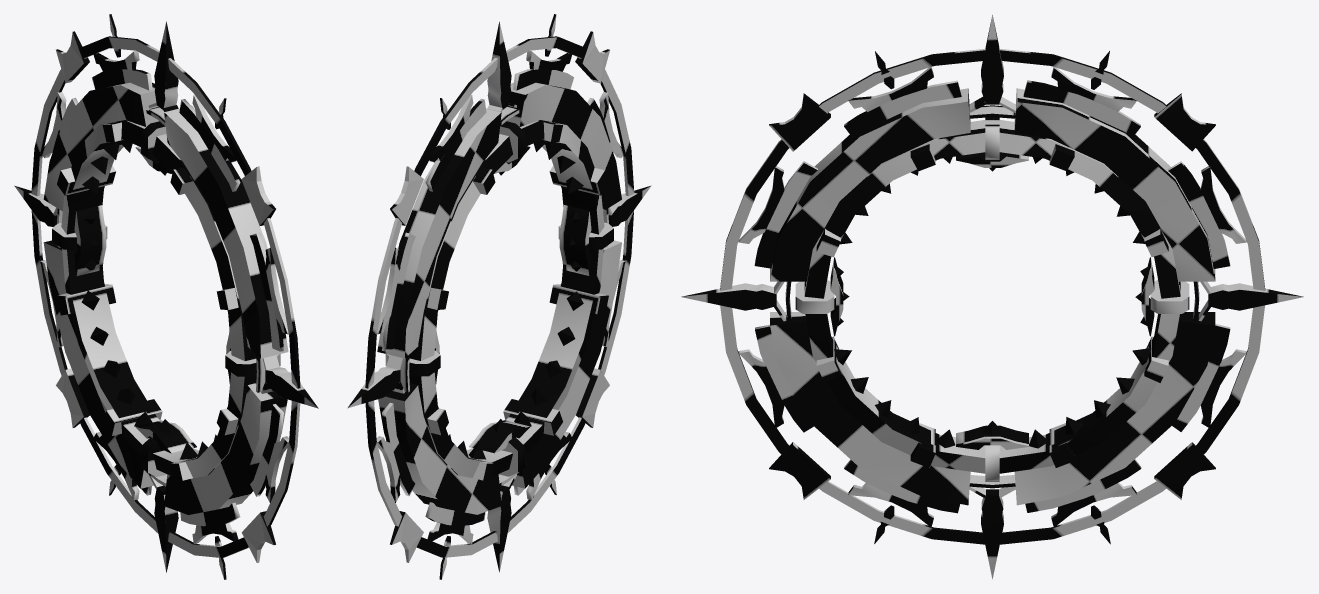
Rendered from galaxygate_beta.obj.
3 renders of one model, left to right at view 1: azimuth 30°, elevation 25°; view 2: azimuth 150°, elevation 25°; view 3: azimuth 270°, elevation 25°, orthographic. The views are drawn at different scales.
Parts seen in each view (by area): view 1: galaxygate_beta; view 2: galaxygate_beta; view 3: galaxygate_beta.
Boxes of the visible parts, x1,y1,x2,y2 form: galaxygate_beta: (14, 14, 318, 579); galaxygate_beta: (347, 14, 651, 579); galaxygate_beta: (681, 14, 1303, 579).
Bounding box in the file's own units: 43.95 × 487 × 487.
1 material, 1 textured.
